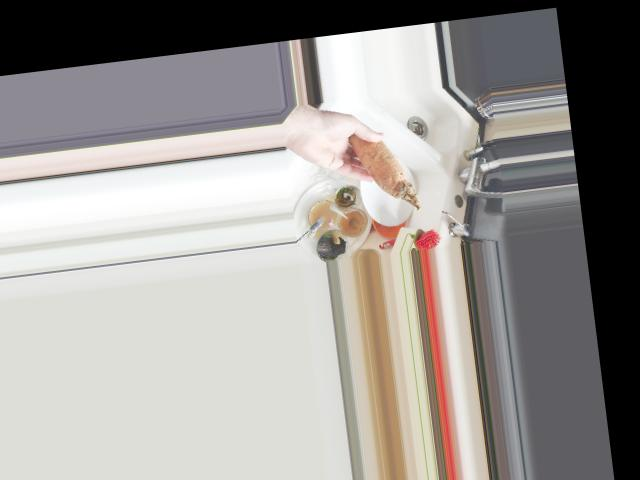sweet_potato: (342, 120, 421, 219)
